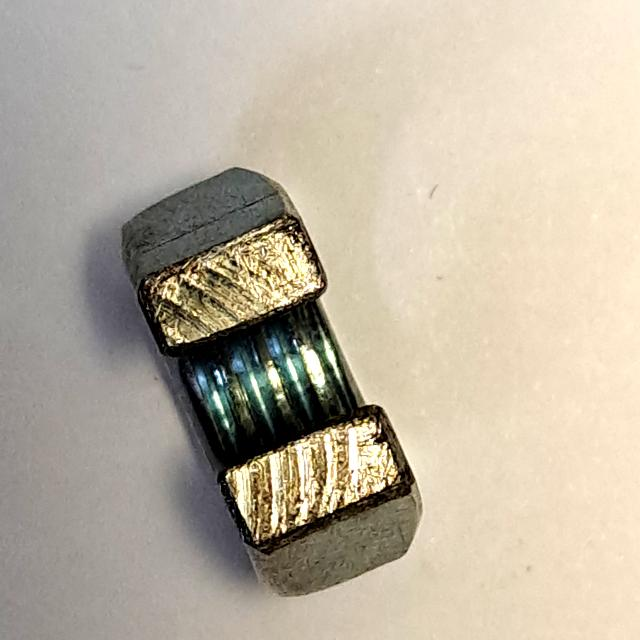Side-Fracture: (111, 147, 443, 609)
